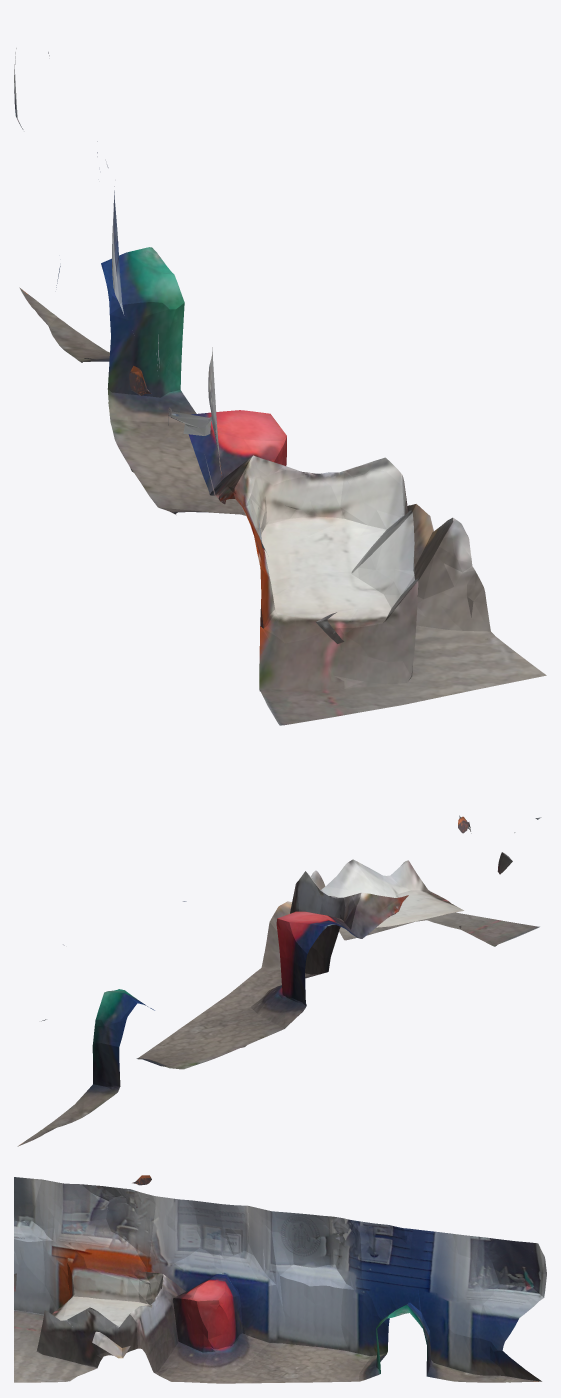
3 views of the same model, one above another, from view 1: azimuth 30°, elevation 25°; view 2: azimuth 150°, elevation 25°; view 3: azimuth 270°, elevation 25° (orthographic). The views are drawn at different scales.
Size of the model in its own units: 1.92 by 1.82 by 6.25.
1 material, 1 textured.
